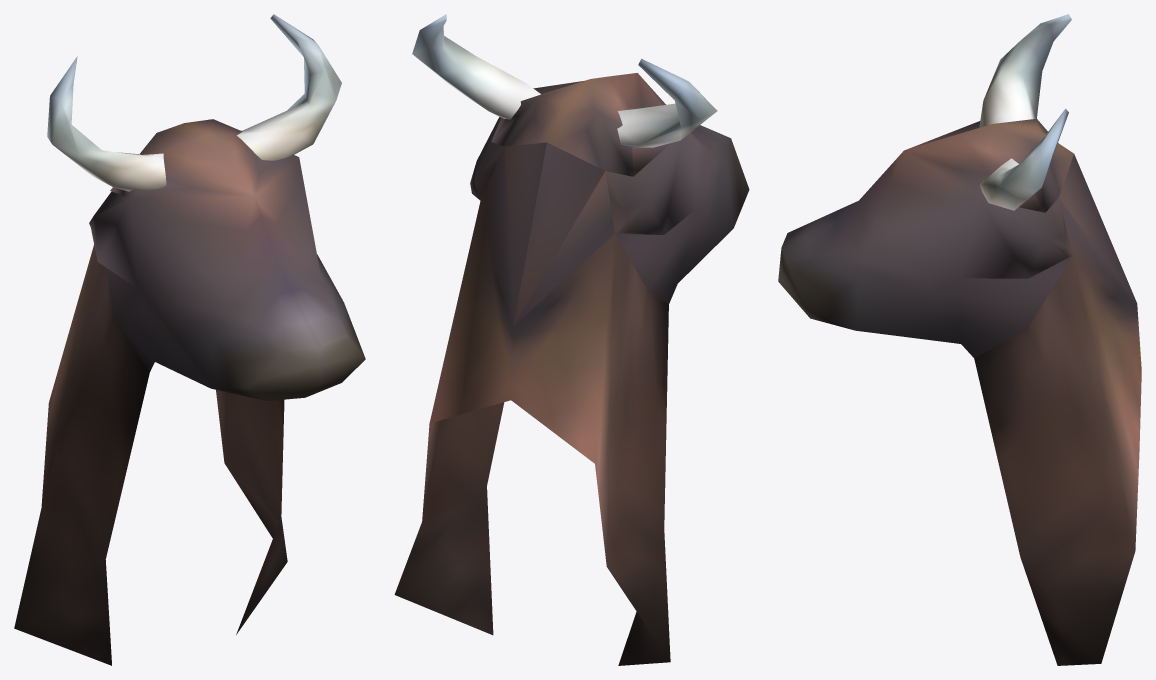
Rendered from hat_bison.dae.
3 views of the same model, side by side, from view 1: azimuth 30°, elevation 25°; view 2: azimuth 150°, elevation 25°; view 3: azimuth 270°, elevation 25° (orthographic). The views are drawn at different scales.
Parts seen in each view (by area): view 1: a_hat_bison; view 2: a_hat_bison; view 3: a_hat_bison.
Boxes of the visible parts, <box> form: a_hat_bison: <box>14,14,365,665</box>; a_hat_bison: <box>394,14,749,665</box>; a_hat_bison: <box>778,14,1141,665</box>.
Bounding box in the file's own units: 0.8241 × 0.9385 × 1.66.
